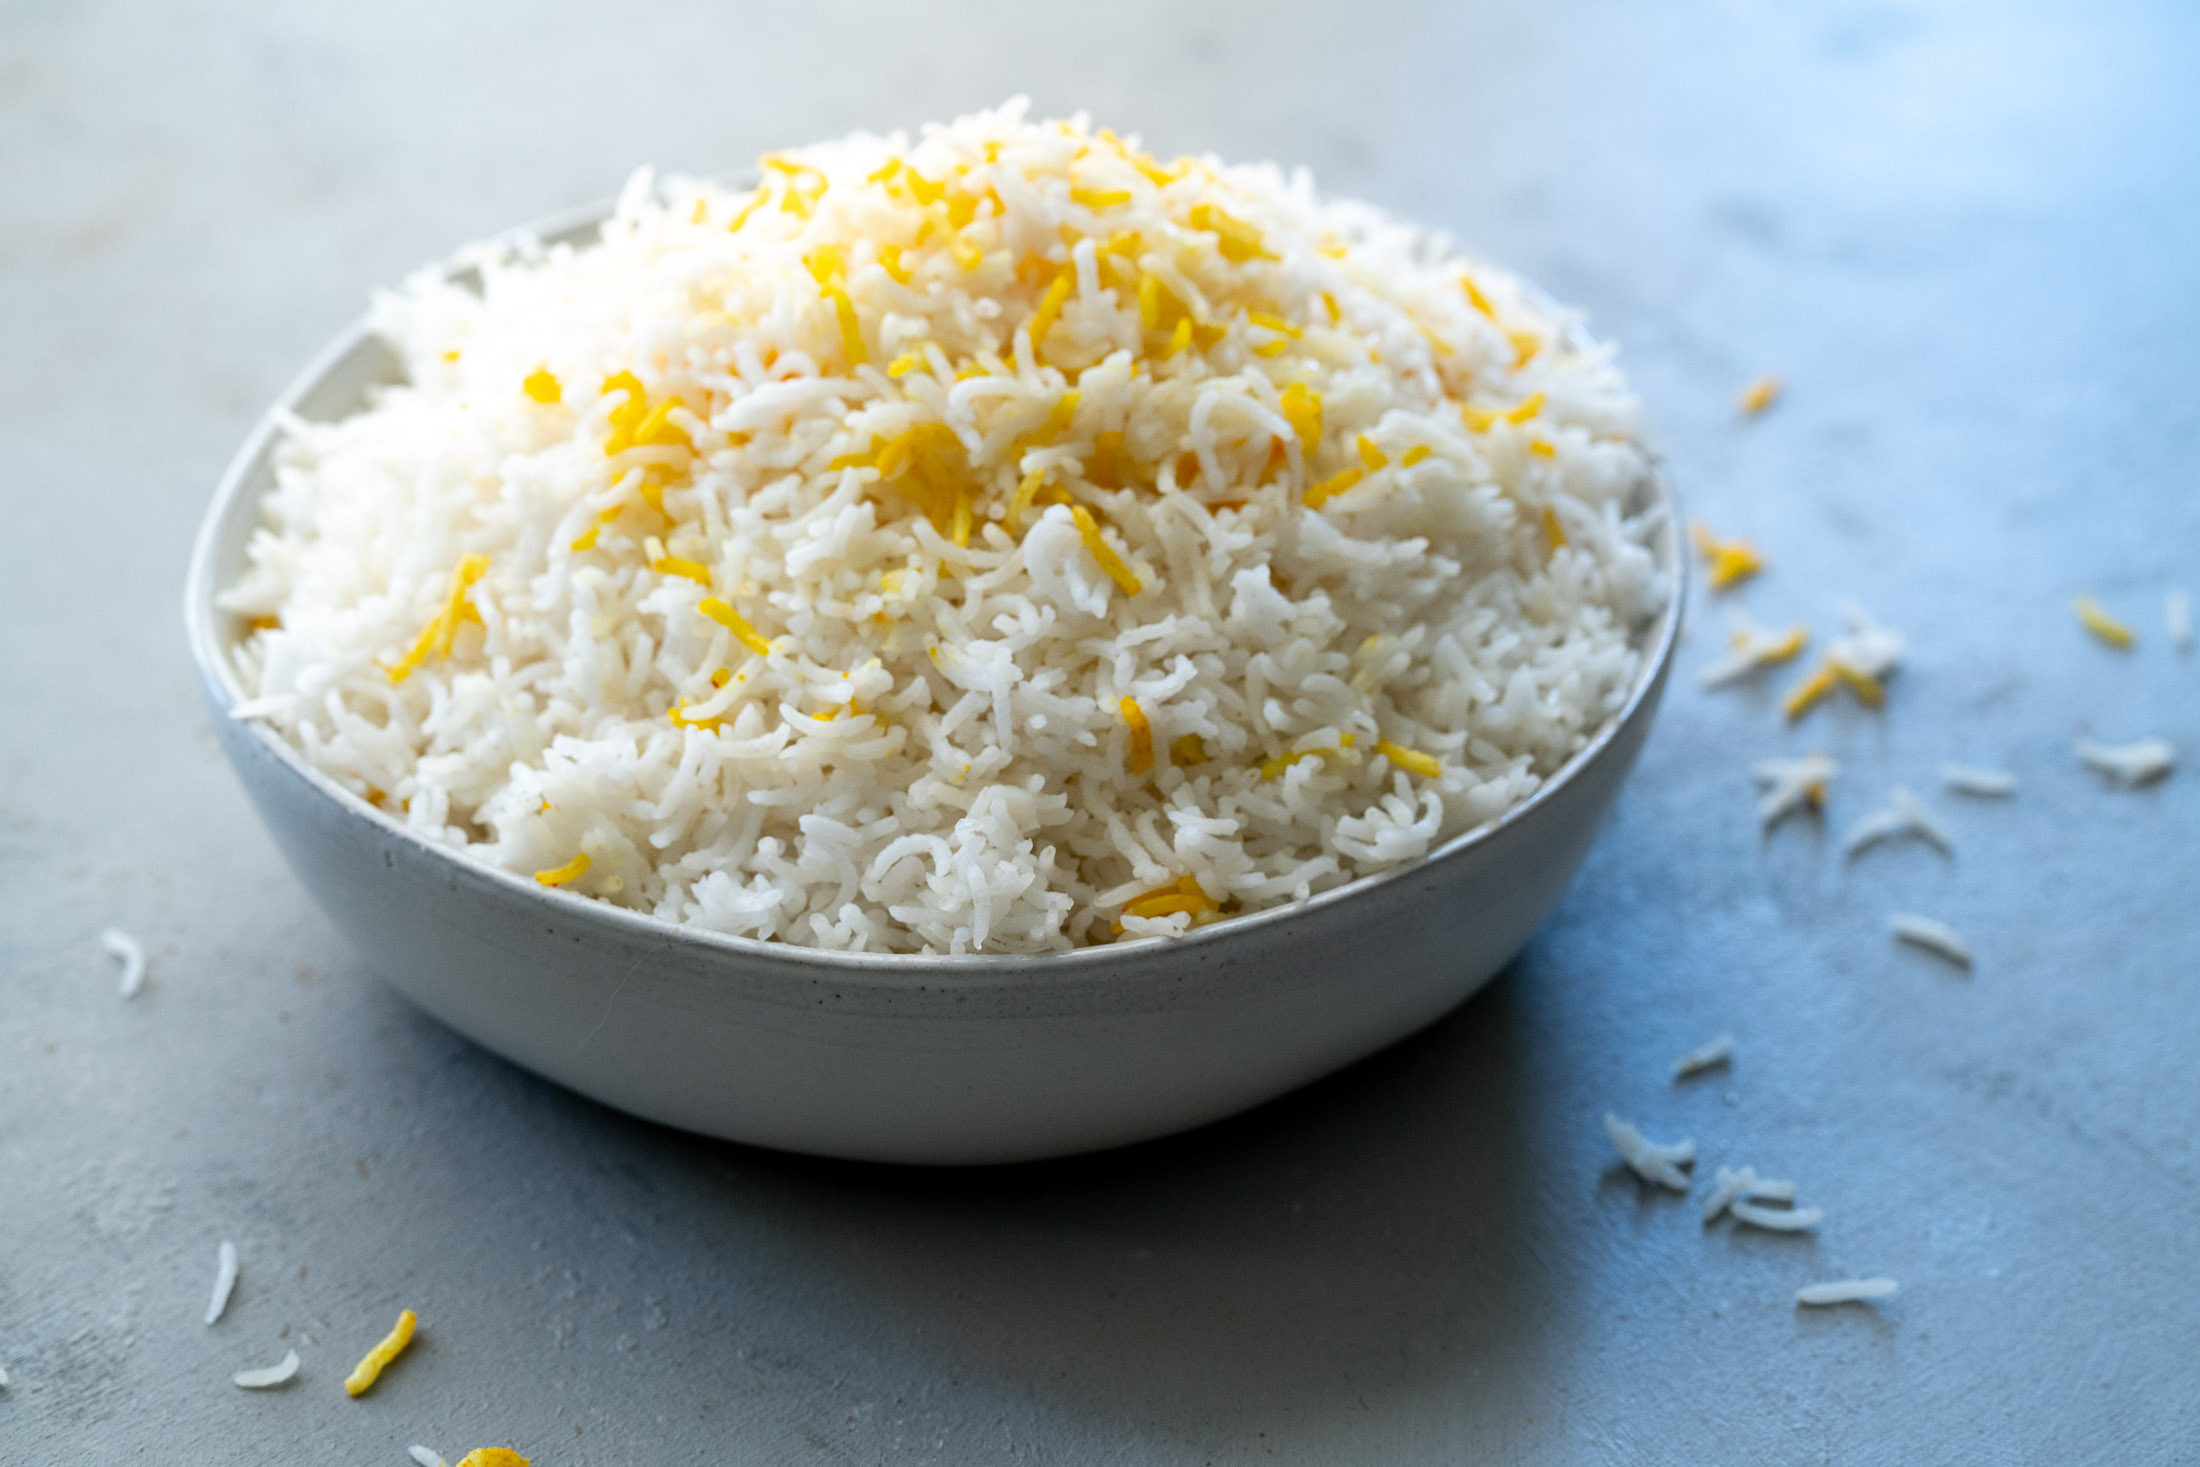rice: (350, 134, 1652, 928)
